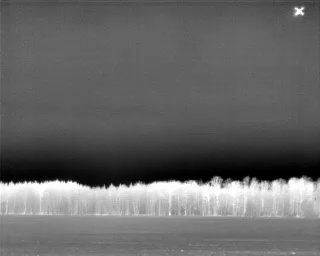DRONE: (291, 2, 309, 22)
